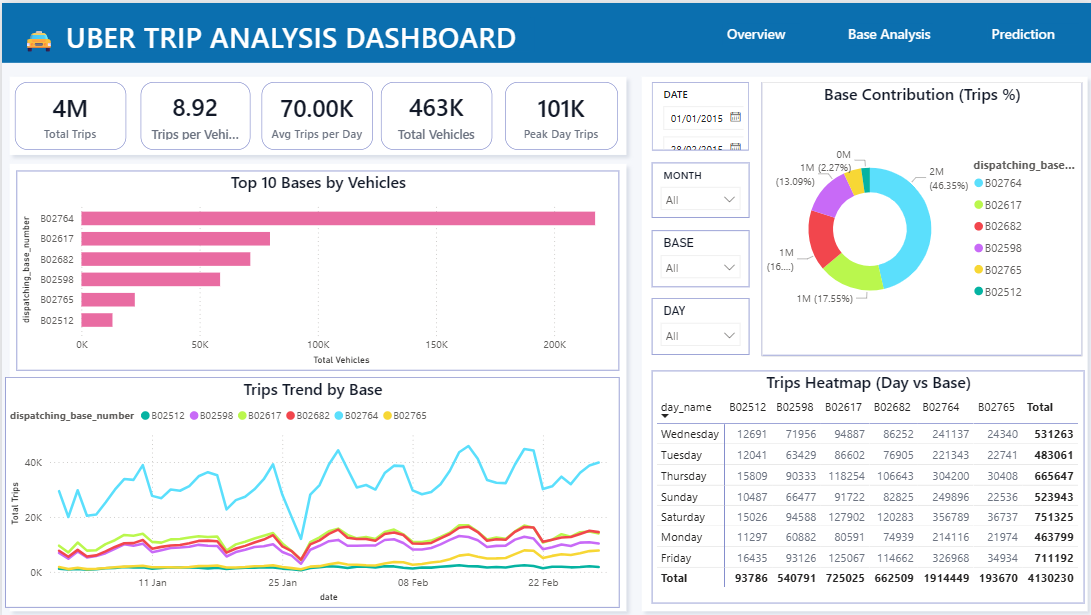

The page's visual inventory and layout, read from the dashboard file:
{"tool":"powerbi","page":{"name":"Page 1","canvas":[1280,720],"ordinal":0},"visuals":[{"type":"shape","box":[739.6,77.4,539.6,643.4],"z":0},{"type":"lineChart","title":"Trips Trend","fields":{"Category":["Uber.date"],"Y":["Uber.Total Trips"],"Series":["Uber.month_name"]},"box":[17,194.3,332.1,241.5],"z":0,"group":"g1"},{"type":"clusteredColumnChart","title":"Trips by Day","fields":{"Category":["Uber.day_name"],"Y":["Uber.Total Trips"]},"box":[369.8,194.3,350.9,241.5],"z":1000,"group":"g1"},{"type":"lineChart","title":"Trips Forecast (Next 7 Days)","fields":{"Category":["Uber.date"],"Y":["Uber.Total Trips"]},"box":[15.1,201.9,705.7,501.9],"z":1000},{"type":"shape","box":[0,179.2,739.6,541.5],"z":2000},{"type":"clusteredColumnChart","title":"Week-wise trend","fields":{"Category":["Uber.week"],"Y":["Uber.Total Trips"]},"box":[17,452.8,332.1,249.1],"z":2000,"group":"g1"},{"type":"shape","box":[0,77.4,739.6,109.4],"z":3000},{"type":"donutChart","title":"Month distribution","fields":{"Category":["Uber.month_name"],"Y":["Uber.Total Trips"]},"box":[369.8,452.8,350.9,249.1],"z":3000,"group":"g1"},{"type":"clusteredBarChart","title":"Top 10 Bases by Trips","fields":{"Category":["Uber.dispatching_base_number"],"Y":["Uber.Total Trips"]},"box":[886.8,89.7,377.4,322.6],"z":4000,"group":"g1"},{"type":"card","title":"Total Trips","fields":{"Values":["Uber.Total Trips"]},"box":[15.1,92.5,130.2,79.2],"z":4000},{"type":"card","title":"Trips per Vehicle","fields":{"Values":["Uber.Trips per Vehicle"]},"box":[162.3,92.5,128.3,79.2],"z":5000},{"type":"scatterChart","title":"Vehicles vs Trips","fields":{"X":["Uber.active_vehicles"],"Y":["Uber.trips"]},"box":[760.4,424.2,503.8,279.2],"z":5000,"group":"g1"},{"type":"card","fields":{"Values":["Uber.Peak Day Trips"]},"box":[588.7,92.5,132.1,79.2],"z":6000},{"type":"card","title":"Avg Trips per Day","fields":{"Values":["Uber.Avg Trips per Day"]},"box":[303.8,92.5,130.2,79.2],"z":7000},{"type":"card","fields":{"Values":["Uber.Total Vehicles"]},"box":[443.4,92.5,130.2,79.2],"z":8000},{"type":"shape","box":[0,0,1280,70],"z":9000},{"type":"textbox","title":"🚖 UBER TRIP ANALYSIS DASHBOARD","box":[15.1,17,607.5,39.6],"z":10000},{"type":"textbox","title":"Overview ","box":[842.8,24.4,94,24.4],"z":11000},{"type":"textbox","title":"Base Analysis","box":[984.9,24.5,109.4,24.5],"z":12000},{"type":"textbox","title":"Prediction","box":[1152.7,24.4,111.4,24.4],"z":13000},{"type":"slicer","fields":{"Values":["Uber.date"]},"box":[760.4,92.5,113.2,80],"z":14000},{"type":"slicer","fields":{"Values":["Uber.month"]},"box":[760.1,185.9,114.1,64.4],"z":15000},{"type":"slicer","fields":{"Values":["Uber.day"]},"box":[760.1,346,114.1,66.3],"z":16000},{"type":"slicer","fields":{"Values":["Uber.dispatching_base_number"]},"box":[760.1,266.9,114.1,66.3],"z":17000},{"type":"group","id":"g1","title":"OVERVIEW_GROUP","box":[17,89.7,1247.2,613.8],"z":18000},{"type":"actionButton","box":[837.7,0,98.1,69.8],"z":20000},{"type":"actionButton","box":[977.4,0,122.6,69.8],"z":21000},{"type":"actionButton","box":[1139.6,0,100,69.8],"z":23000}]}

Visuals, with their boxes in screenshot pixels (x1, y1, x2, y2), scaled from the page's 1280x720 canvas onto the 1091x615 screenshot:
shape: (left=630, top=66, right=1090, bottom=614)
"Trips Trend" lineChart: (left=14, top=166, right=298, bottom=372)
"Trips by Day" clusteredColumnChart: (left=315, top=166, right=614, bottom=372)
"Trips Forecast (Next 7 Days)" lineChart: (left=13, top=172, right=614, bottom=601)
shape: (left=0, top=153, right=630, bottom=614)
"Week-wise trend" clusteredColumnChart: (left=14, top=387, right=298, bottom=600)
shape: (left=0, top=66, right=630, bottom=160)
"Month distribution" donutChart: (left=315, top=387, right=614, bottom=600)
"Top 10 Bases by Trips" clusteredBarChart: (left=756, top=77, right=1078, bottom=352)
"Total Trips" card: (left=13, top=79, right=124, bottom=147)
"Trips per Vehicle" card: (left=138, top=79, right=248, bottom=147)
"Vehicles vs Trips" scatterChart: (left=648, top=362, right=1078, bottom=601)
card - Uber.Peak Day Trips: (left=502, top=79, right=614, bottom=147)
"Avg Trips per Day" card: (left=259, top=79, right=370, bottom=147)
card - Uber.Total Vehicles: (left=378, top=79, right=489, bottom=147)
shape: (left=0, top=0, right=1090, bottom=60)
"🚖 UBER TRIP ANALYSIS DASHBOARD" textbox: (left=13, top=15, right=531, bottom=48)
"Overview " textbox: (left=718, top=21, right=798, bottom=42)
"Base Analysis" textbox: (left=839, top=21, right=933, bottom=42)
"Prediction" textbox: (left=982, top=21, right=1077, bottom=42)
slicer - Uber.date: (left=648, top=79, right=745, bottom=147)
slicer - Uber.month: (left=648, top=159, right=745, bottom=214)
slicer - Uber.day: (left=648, top=296, right=745, bottom=352)
slicer - Uber.dispatching_base_number: (left=648, top=228, right=745, bottom=285)
"OVERVIEW_GROUP" group: (left=14, top=77, right=1078, bottom=601)
actionButton: (left=714, top=0, right=798, bottom=60)
actionButton: (left=833, top=0, right=938, bottom=60)
actionButton: (left=971, top=0, right=1057, bottom=60)
